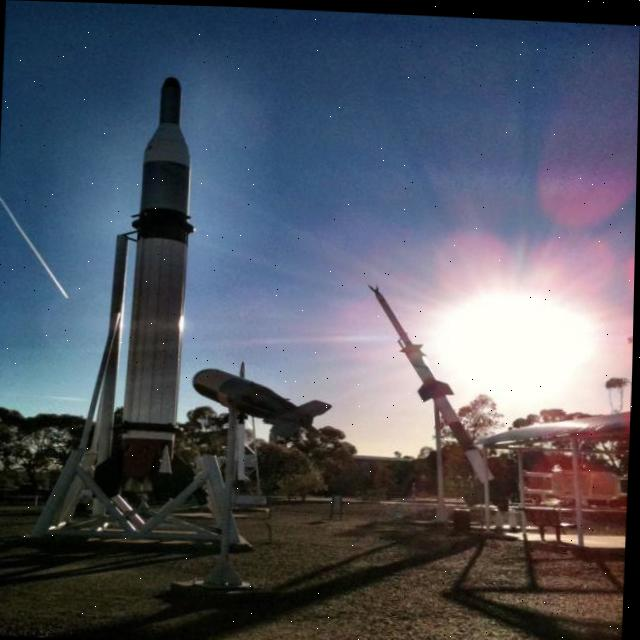missile: (87, 60, 220, 509), (171, 355, 363, 425), (355, 285, 453, 366)
